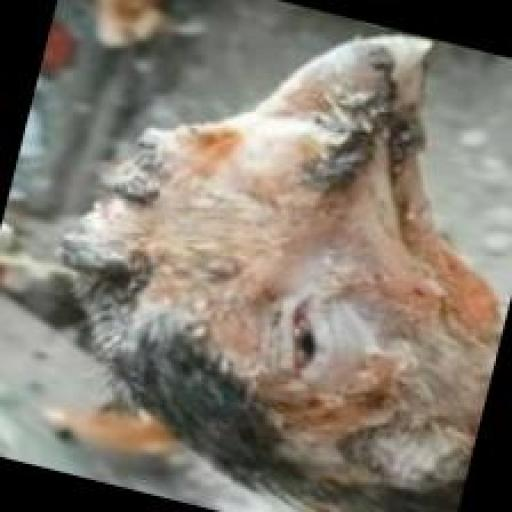disease: (42, 59, 458, 465)
